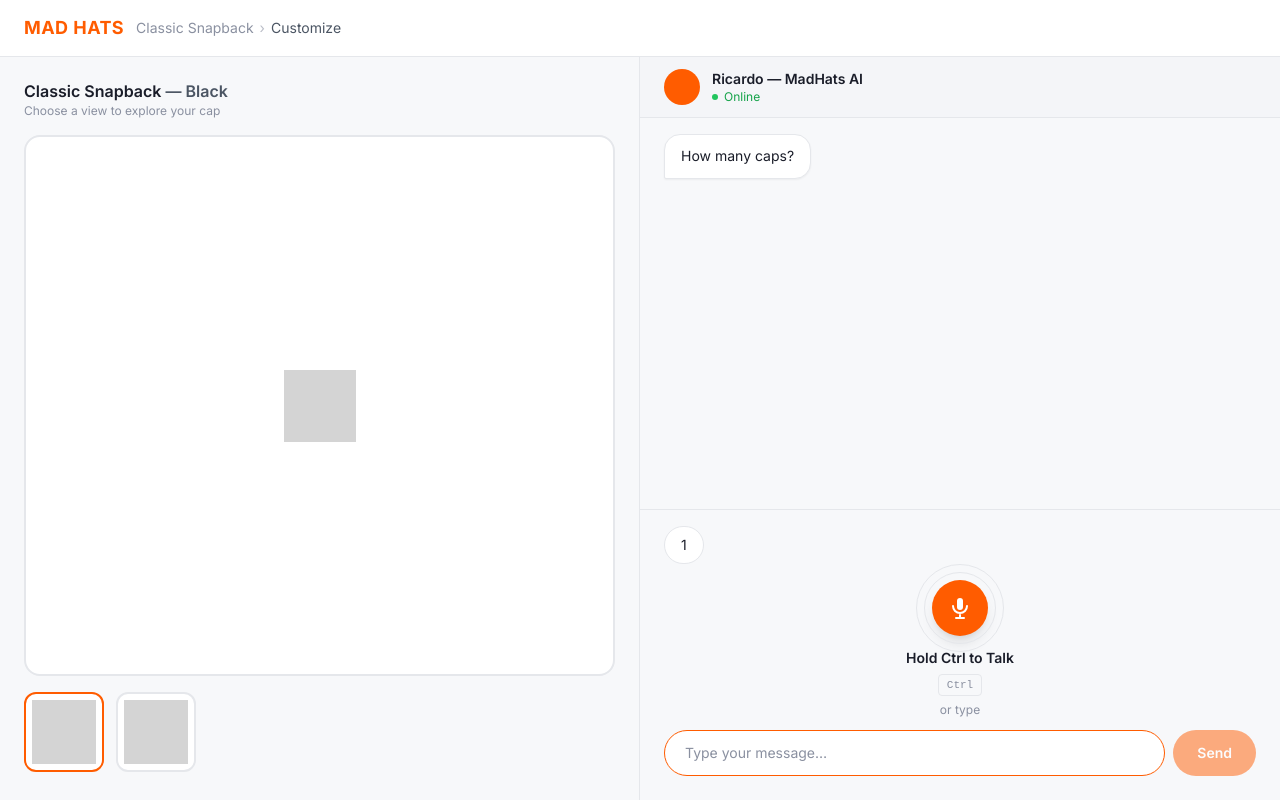
Scenario: ChatPanel option chips › clicking a chip appends a user bubble then the assistant reply
Click the button "1" at (684, 544), box [664, 526, 704, 564]
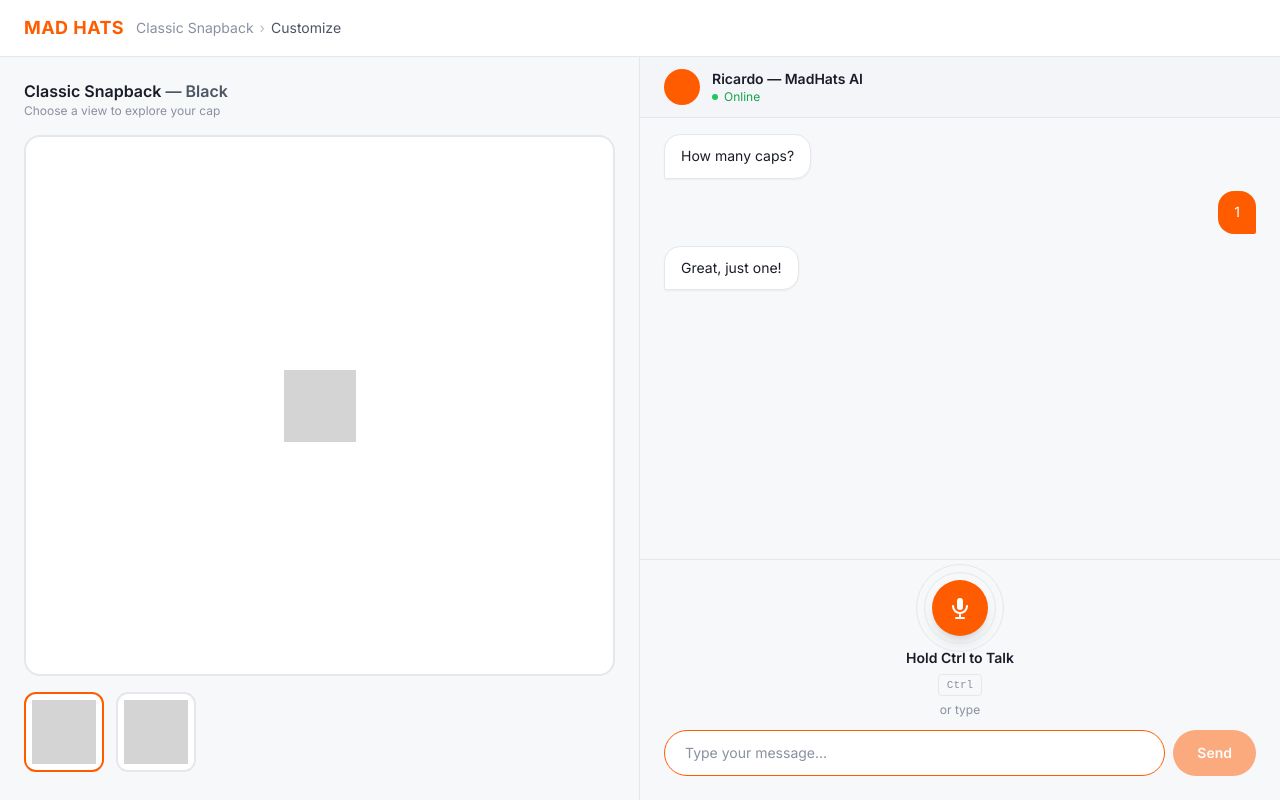
Result: the text "Great, just one!" is shown at [664, 246, 799, 290]
